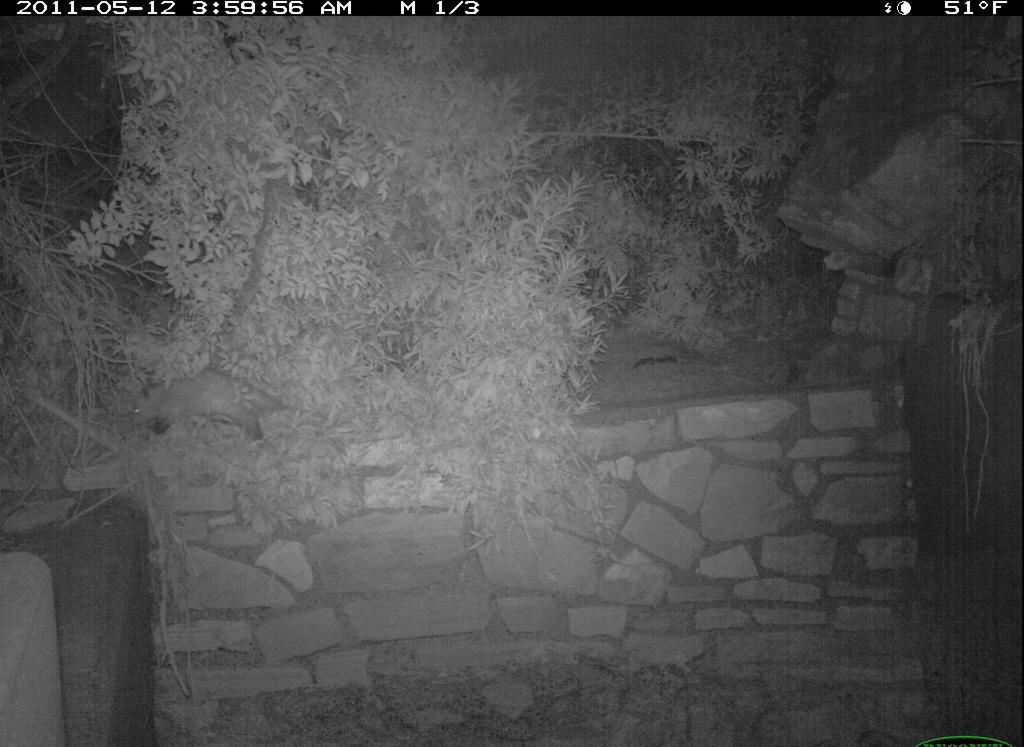opossum: (129, 373, 333, 447)
